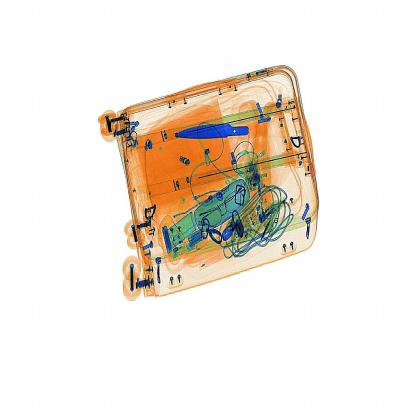wrench: (170, 115, 286, 148)
